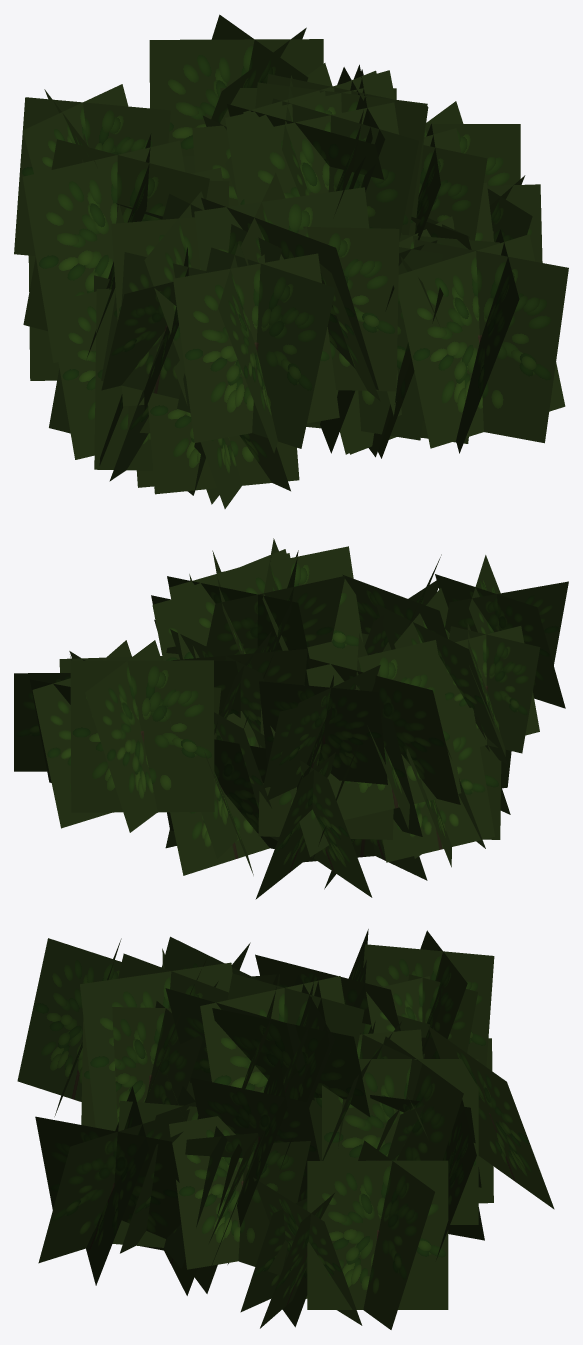
The model's file is SM_Art_Veg_Mangrove_2_LeavesDark.gltf.
3 renders of one model, top to bottom at view 1: azimuth 30°, elevation 25°; view 2: azimuth 150°, elevation 25°; view 3: azimuth 270°, elevation 25°, orthographic. The views are drawn at different scales.
Parts seen in each view (by area): view 1: SM_Art_Veg_Mangrove_2_LeavesDark; view 2: SM_Art_Veg_Mangrove_2_LeavesDark; view 3: SM_Art_Veg_Mangrove_2_LeavesDark.
Boxes of the visible parts, x1,y1,x2,y2 form: SM_Art_Veg_Mangrove_2_LeavesDark: (14, 14, 568, 508); SM_Art_Veg_Mangrove_2_LeavesDark: (14, 538, 568, 899); SM_Art_Veg_Mangrove_2_LeavesDark: (17, 929, 554, 1329).
Bounding box in the file's own units: 5.85 × 3.56 × 6.2.
Materials: 1 (1 with a texture image).
